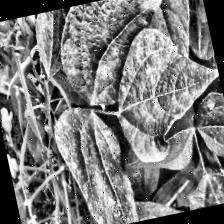Bean Rust: (102, 14, 224, 164), (50, 0, 171, 110), (51, 107, 137, 224), (193, 89, 224, 163), (184, 161, 224, 209)
